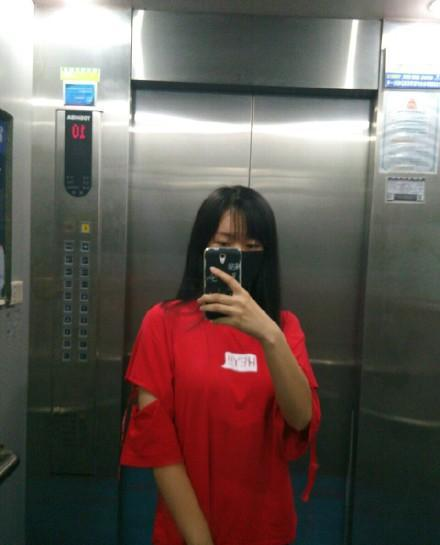OK: (204, 227, 272, 295)
